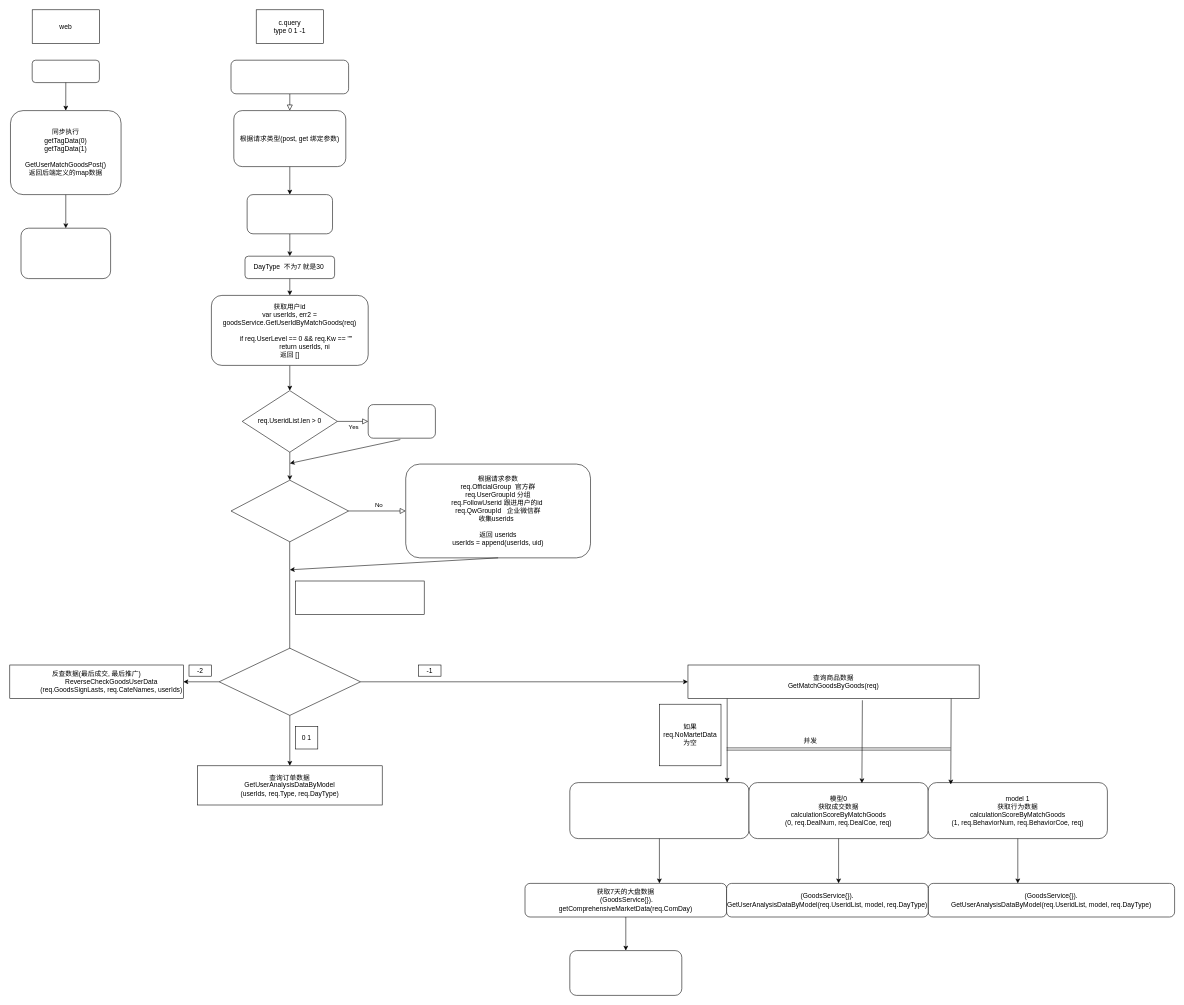
The diagram is 1184 pixels wide and 1005 high, and some of its shapes have lost their labels. Each missing label, with the centre of its shape:
"changeTagData(-1) GetUserMatchGoodsPost() 返回商品类别,以及聚合数据" goes at [65,253].
"GetUserMatchGoods(c *gin.Context) 获取商品信息" goes at [289,77].
"req.Type 为 0 1" goes at [289,511].
"req.Type(0 1 -1 -2)" goes at [290,681].
"从缓存中获取 //成功后直接返回被注释 没有用" goes at [290,214].
"使用CheckCache 先查缓存" goes at [625,972].
"如果 userids.len > 0 就对其去重 然后将userids 从新赋值给req.UseridsList" goes at [359,597].
"将查询 req.userids 加入到 userIds 中" goes at [401,421].
"模型 2 获取大盘数据 calculationScoreByMatchGoods (2, req.ComNum, req.ComCoe, req)" goes at [659,810].
"点击选品" goes at [65,71].
